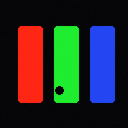0 point: (55, 86, 63, 94)
